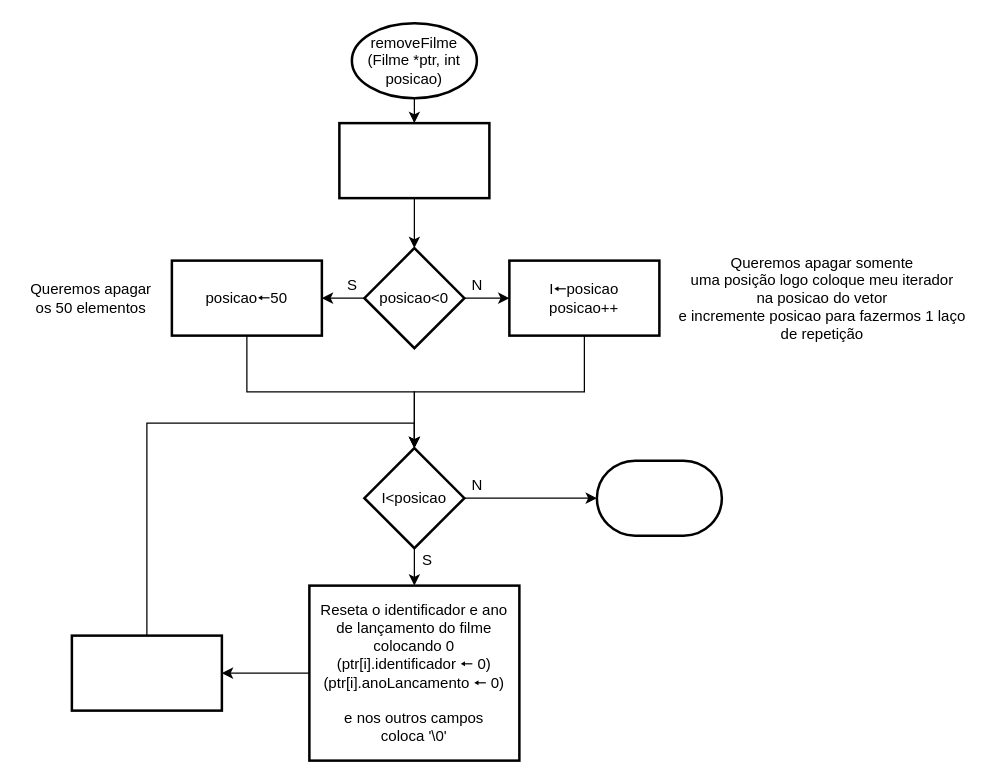
The diagram is 993 pixels wide and 783 high, and some of its shapes have lost their labels. The centre of each missing label's shape, as x and y in pixels:
"Declara iterador I🠔0" belongs at point 414,160.
"I++" belongs at point 146,672.
"Retorna 0" belongs at point 658,497.
